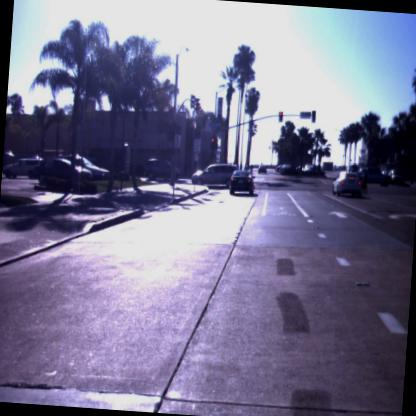trafficlight: (208, 132, 218, 154), (276, 110, 283, 124)
